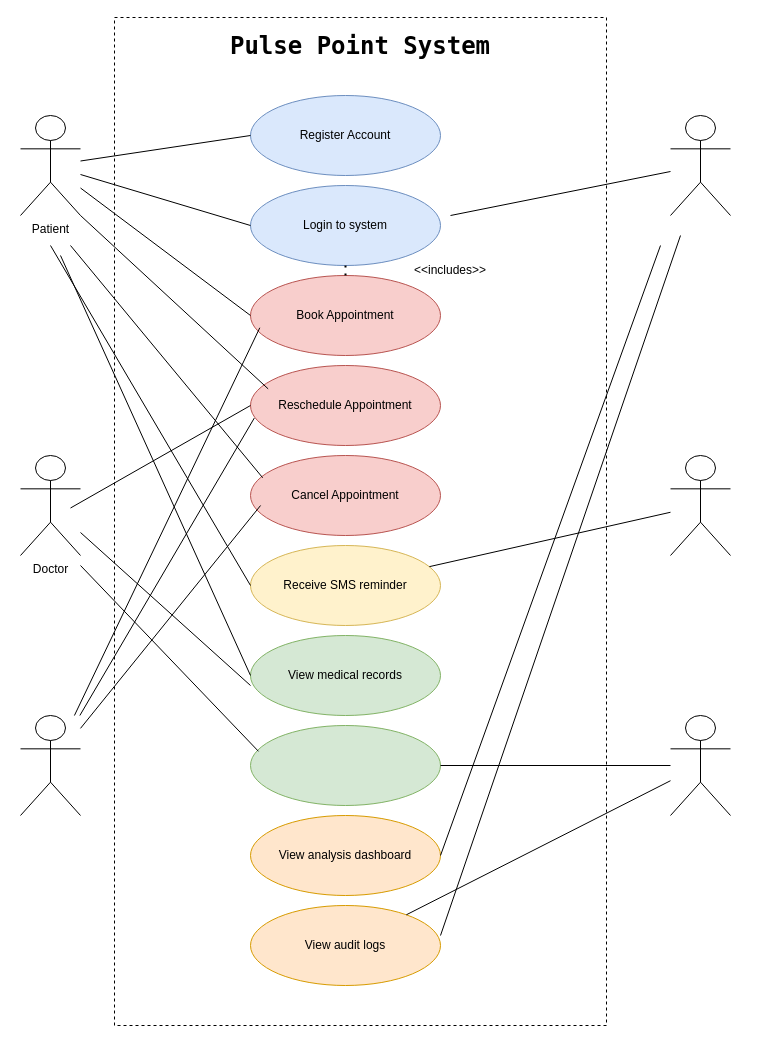
The diagram is 766 pixels wide and 1043 high, and some of its shapes have lost their labels. Here are the shapes that lost their labels. From the top down, the centre of each, then its label:
At pixel 700 165: "Administrator".
At pixel 700 505: "Twillo API".
At pixel 50 765: "Receptionist".
At pixel 345 765: "Create medical record".
At pixel 700 765: "Medical Regulator".
